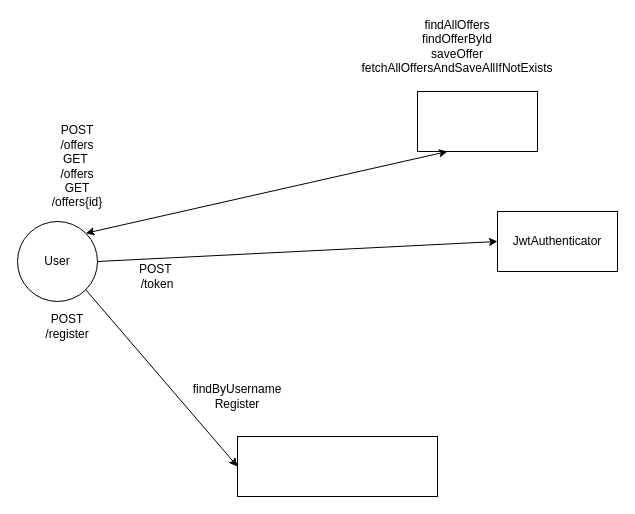
Some shapes in this 635 by 514 pixel diagram are drawn without their labels. The shapes that lost their labels are listed below. From the top down, each one's centre as x and y in pixels, then its label:
At (477,121): "OfferFacade".
At (337,466): "LoginAndRegisterFacade".
